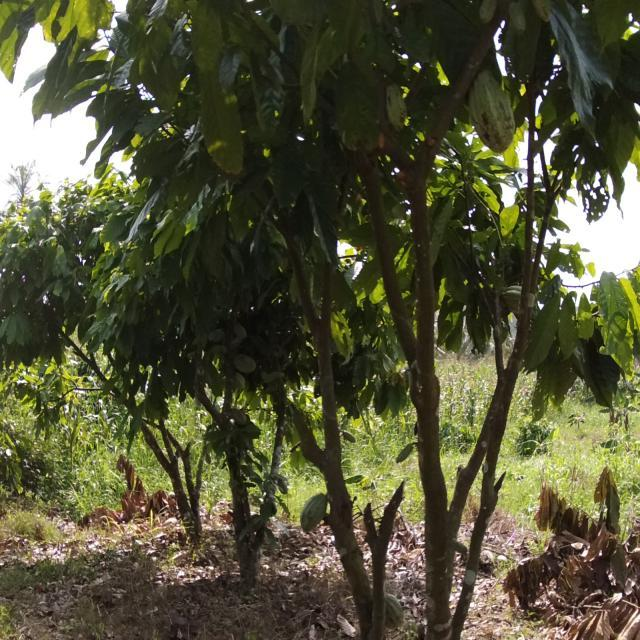Mature_Unripe: (472, 64, 527, 157), (377, 77, 417, 151), (369, 585, 409, 631), (300, 489, 334, 537)
